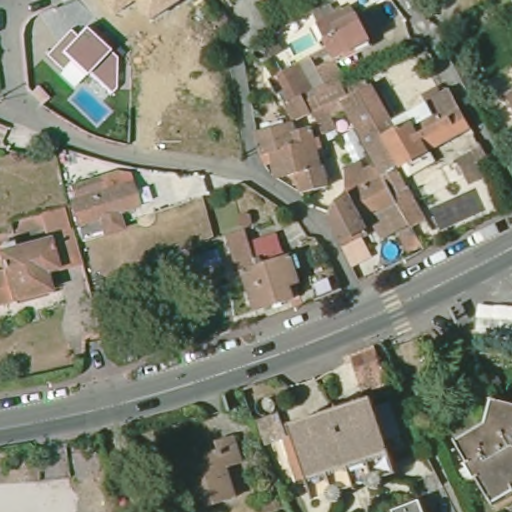pool: (65, 84, 116, 132), (284, 32, 319, 56), (378, 234, 404, 264)
